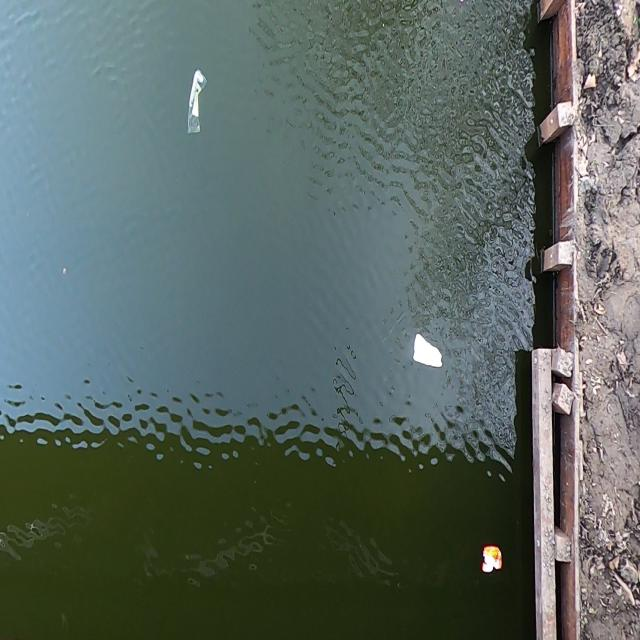Sac plastique: (183, 56, 209, 140)
